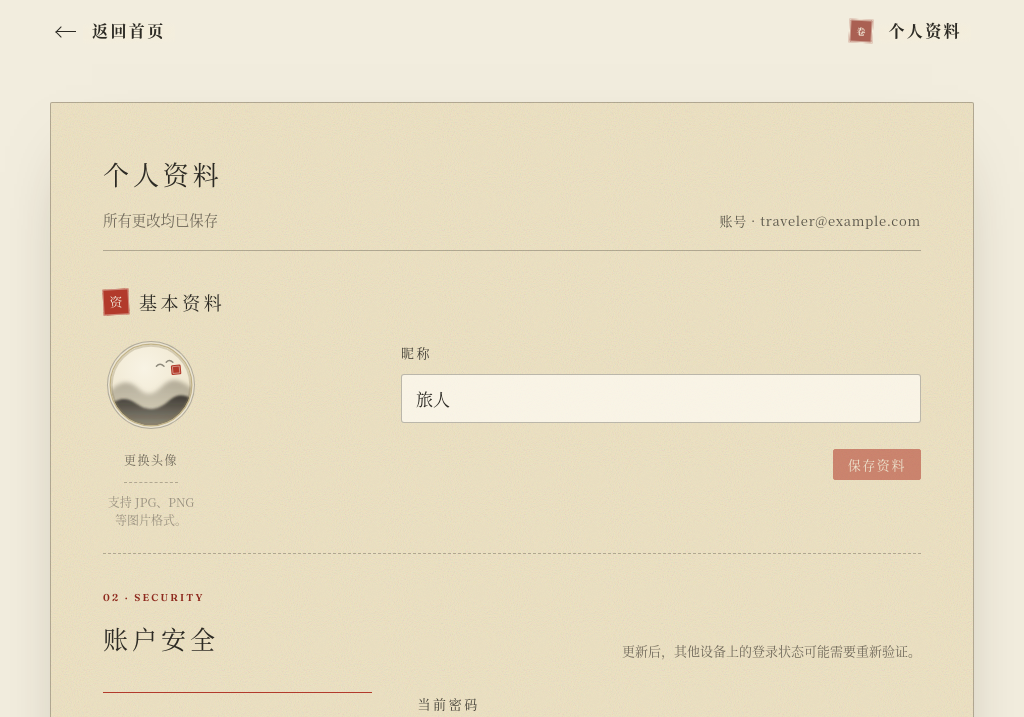
Test: public form feedback › exposes independent account sections and a clear profile dirty state
Expected: the element "基本资料" is shown, [103,259,921,535]
Expected: the text "所有更改均已保存" is shown, [103,206,223,234]
Replace the text in the field labelled "昵称" with "新的旅人": (661, 398) [401,374,921,423]
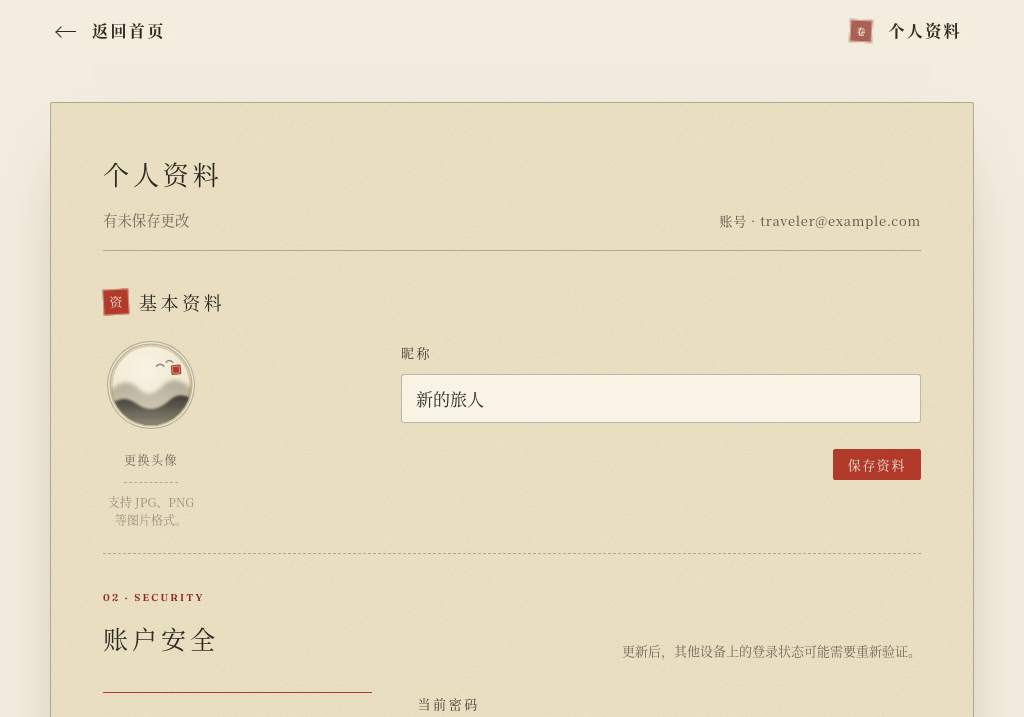
Now the text "有未保存更改" is shown, box [103,209,189,230]
Now the button "保存资料" is enabled, box [833,449,921,480]
